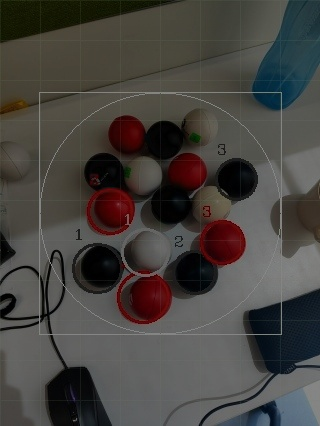Pelota blanca: (268, 193, 320, 251), (0, 265, 46, 328), (161, 395, 257, 425), (121, 228, 171, 275), (121, 156, 163, 198), (188, 185, 233, 222), (180, 108, 219, 147), (0, 140, 33, 182), (44, 249, 65, 315)
Pelota negra: (44, 366, 113, 425), (71, 241, 123, 294), (140, 182, 193, 232), (169, 249, 219, 299), (215, 156, 259, 203), (143, 118, 185, 160), (82, 150, 123, 190)
Pelota roja: (113, 270, 174, 325), (84, 185, 134, 238), (199, 217, 246, 267), (167, 150, 209, 192), (106, 113, 147, 155)
